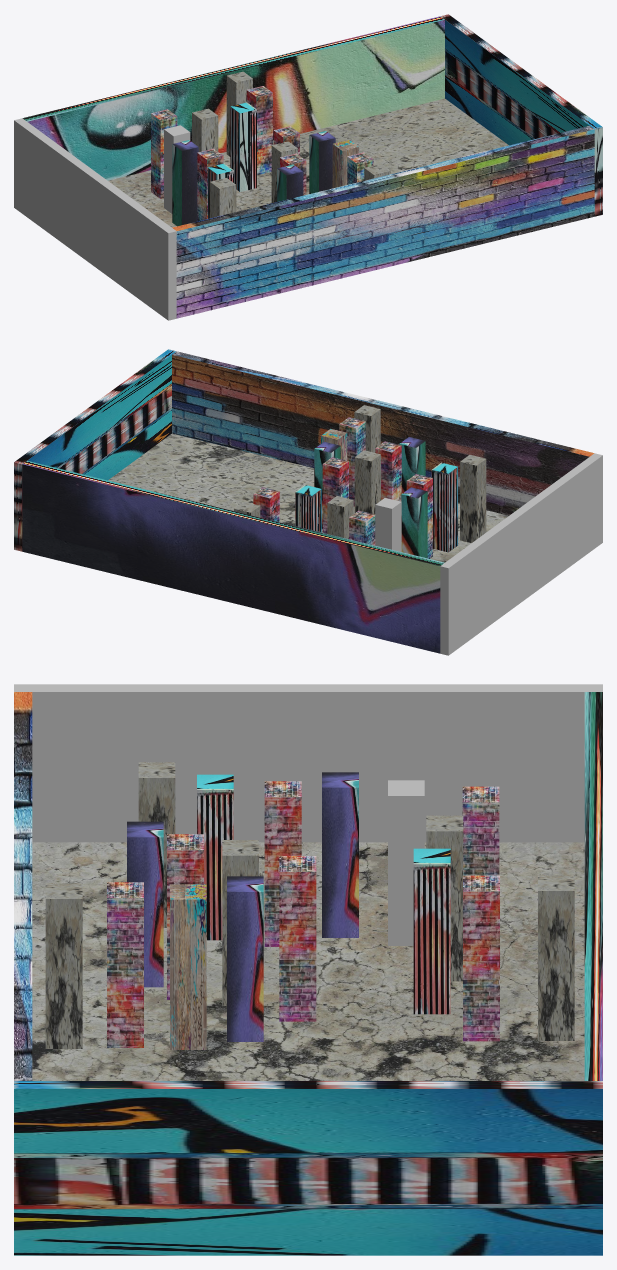
File: arena_v4.dae
3 views of the same model, one above another, from view 1: azimuth 30°, elevation 25°; view 2: azimuth 150°, elevation 25°; view 3: azimuth 270°, elevation 25° (orthographic). The views are drawn at different scales.
Parts seen in each view (by area): view 1: Wall2, Wall1, Wall4, Wall3, Floor, Cube.005, Cube.009, Cube.007, Cube.018, Cube.006, Cube.008, Cube.011 (+10 smaller); view 2: Wall1, Wall2, Wall4, Wall3, Floor, Cube.015, Cube.014, Cube.009, Cube.020, Cube.011, Cube.019, Cube.021 (+10 smaller); view 3: Wall3, Wall4, Floor, Wall2, Wall1, Cube.005, Cube.019, Cube.012, Cube.007, Cube.018, Cube.017, Cube.016 (+11 smaller).
Boxes of the visible parts, left/top/right/bottom form: Wall2: left=172, top=126, right=594, bottom=318; Wall1: left=22, top=16, right=444, bottom=180; Wall4: left=14, top=118, right=176, bottom=320; Wall3: left=440, top=14, right=602, bottom=216; Floor: left=108, top=98, right=508, bottom=227; Cube.005: left=230, top=102, right=256, bottom=191; Cube.009: left=172, top=140, right=198, bottom=226; Cube.007: left=246, top=86, right=272, bottom=175; Cube.018: left=309, top=131, right=335, bottom=193; Cube.006: left=151, top=109, right=177, bottom=198; Cube.008: left=192, top=108, right=218, bottom=151; Cube.011: left=164, top=125, right=190, bottom=213; Wall1: left=22, top=461, right=444, bottom=653; Wall2: left=172, top=351, right=594, bottom=515; Wall4: left=440, top=453, right=602, bottom=655; Wall3: left=14, top=349, right=176, bottom=551; Floor: left=108, top=433, right=508, bottom=562; Cube.015: left=460, top=455, right=486, bottom=542; Cube.014: left=431, top=462, right=457, bottom=552; Cube.009: left=401, top=487, right=427, bottom=558; Cube.020: left=354, top=450, right=380, bottom=514; Cube.011: left=375, top=498, right=401, bottom=551; Cube.019: left=322, top=457, right=348, bottom=533; Cube.021: left=375, top=441, right=401, bottom=501; Wall3: left=14, top=1081, right=602, bottom=1255; Wall4: left=14, top=684, right=602, bottom=842; Floor: left=32, top=842, right=584, bottom=1080; Wall2: left=14, top=692, right=32, bottom=1080; Wall1: left=584, top=692, right=602, bottom=1080; Cube.005: left=413, top=848, right=450, bottom=1014; Cube.019: left=279, top=856, right=316, bottom=1021; Cube.012: left=45, top=883, right=82, bottom=1048; Cube.007: left=463, top=875, right=499, bottom=1041; Cube.018: left=227, top=876, right=263, bottom=1041; Cube.017: left=170, top=884, right=206, bottom=1049; Cube.016: left=107, top=882, right=143, bottom=1047.
Size of the model in its own units: 26 by 16 by 5.
